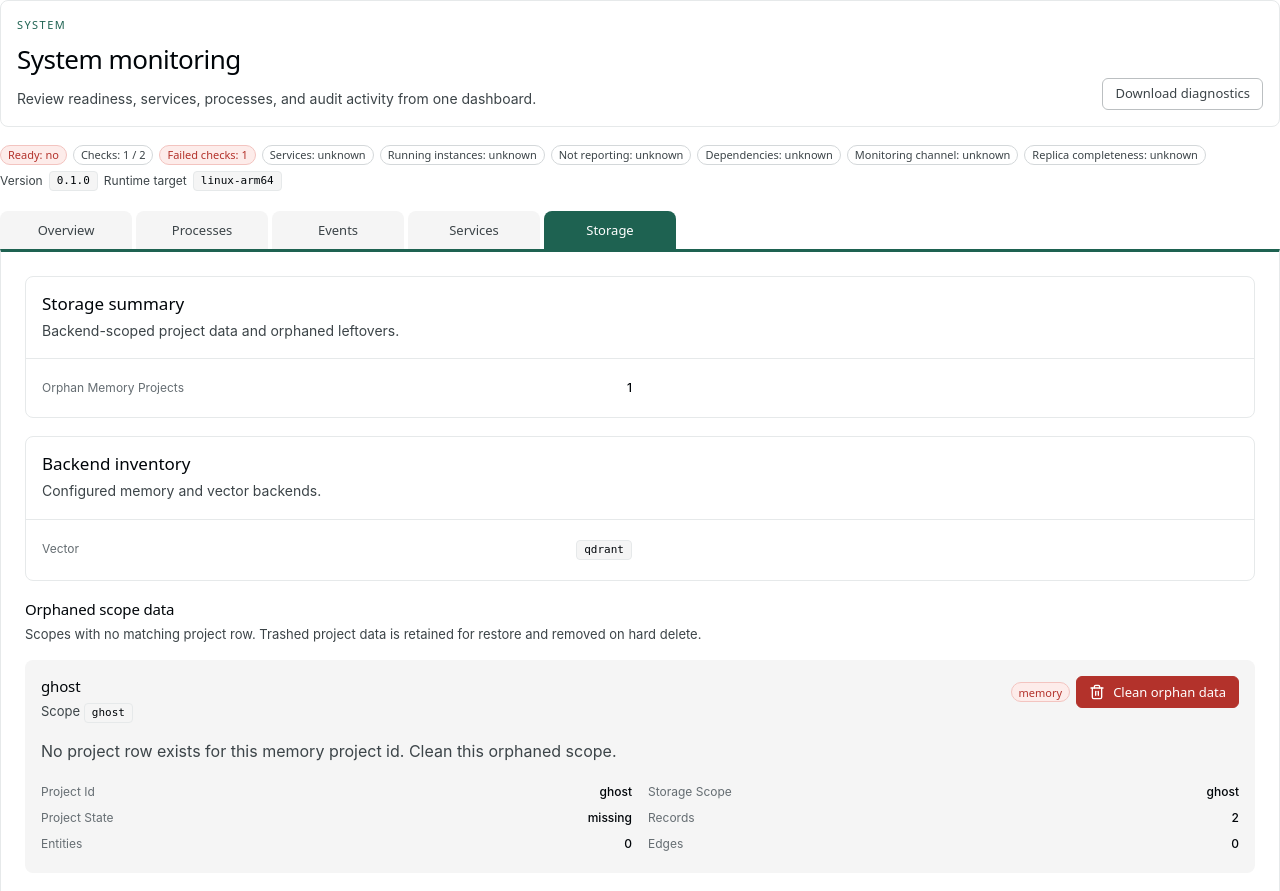
Test: MonitoringPage › does not clean orphan storage when the confirmation is cancelled
Click the button "Clean orphan data".
click(1158, 692)  # box [1076,676,1239,708]
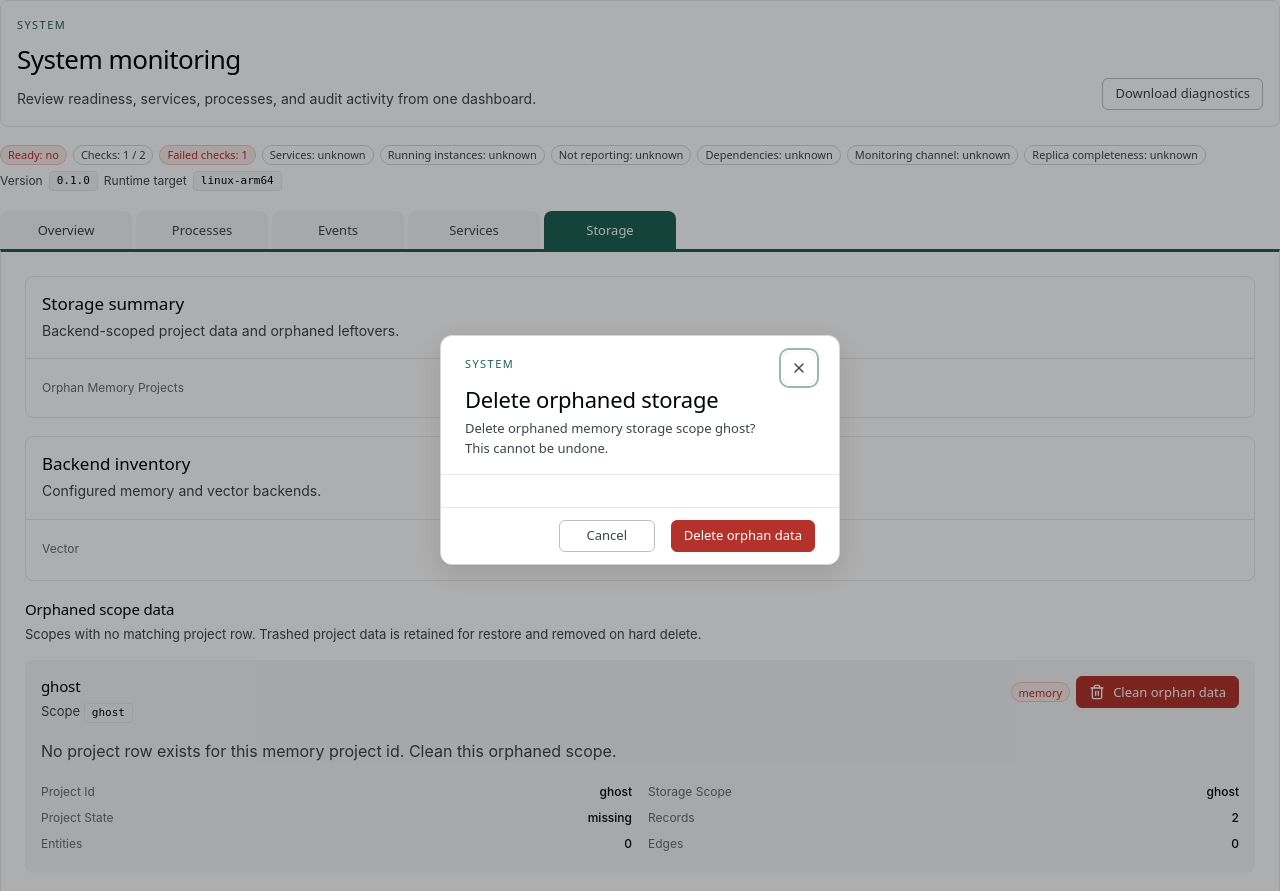
Click the button "Cancel".
click(607, 536)  # box [559,520,655,552]
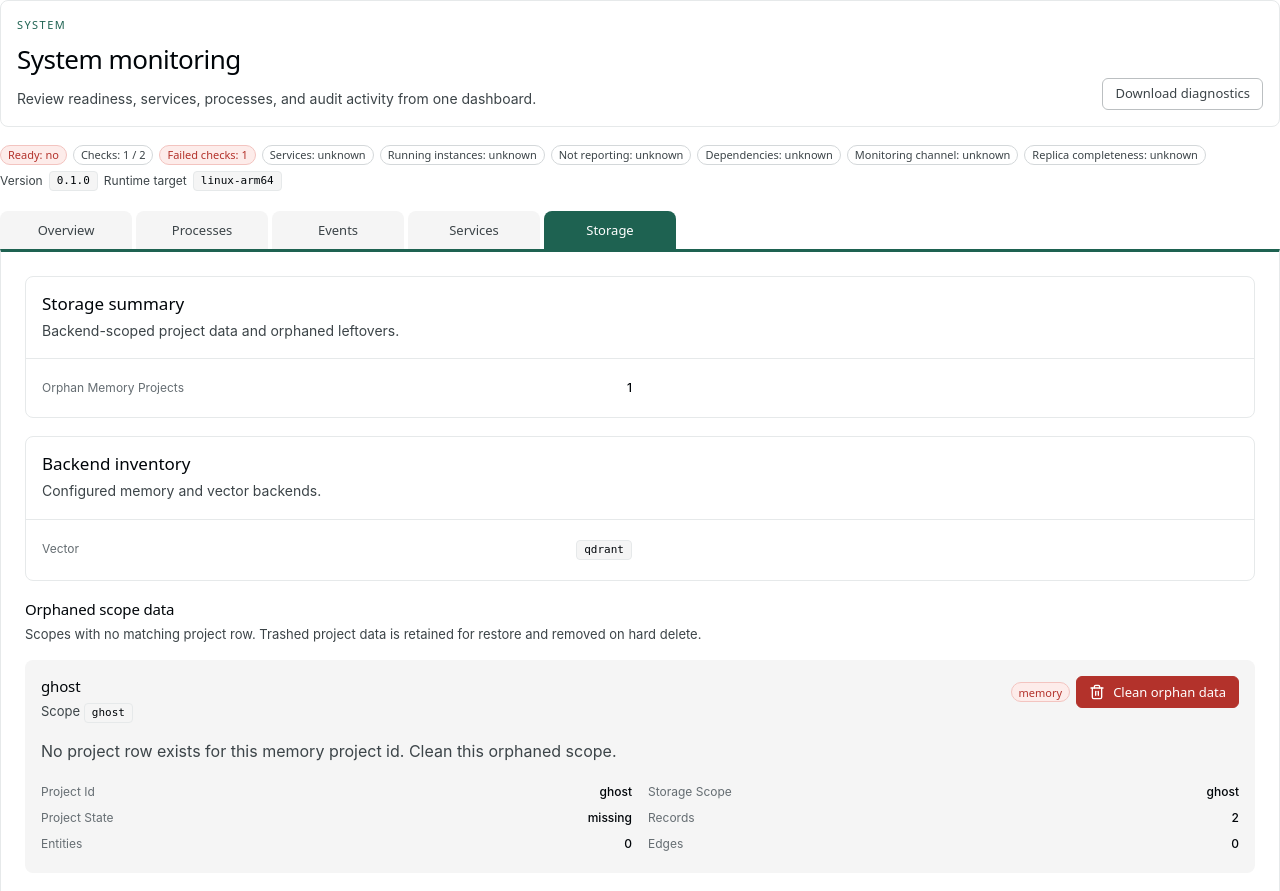
Result: the dialog is gone
